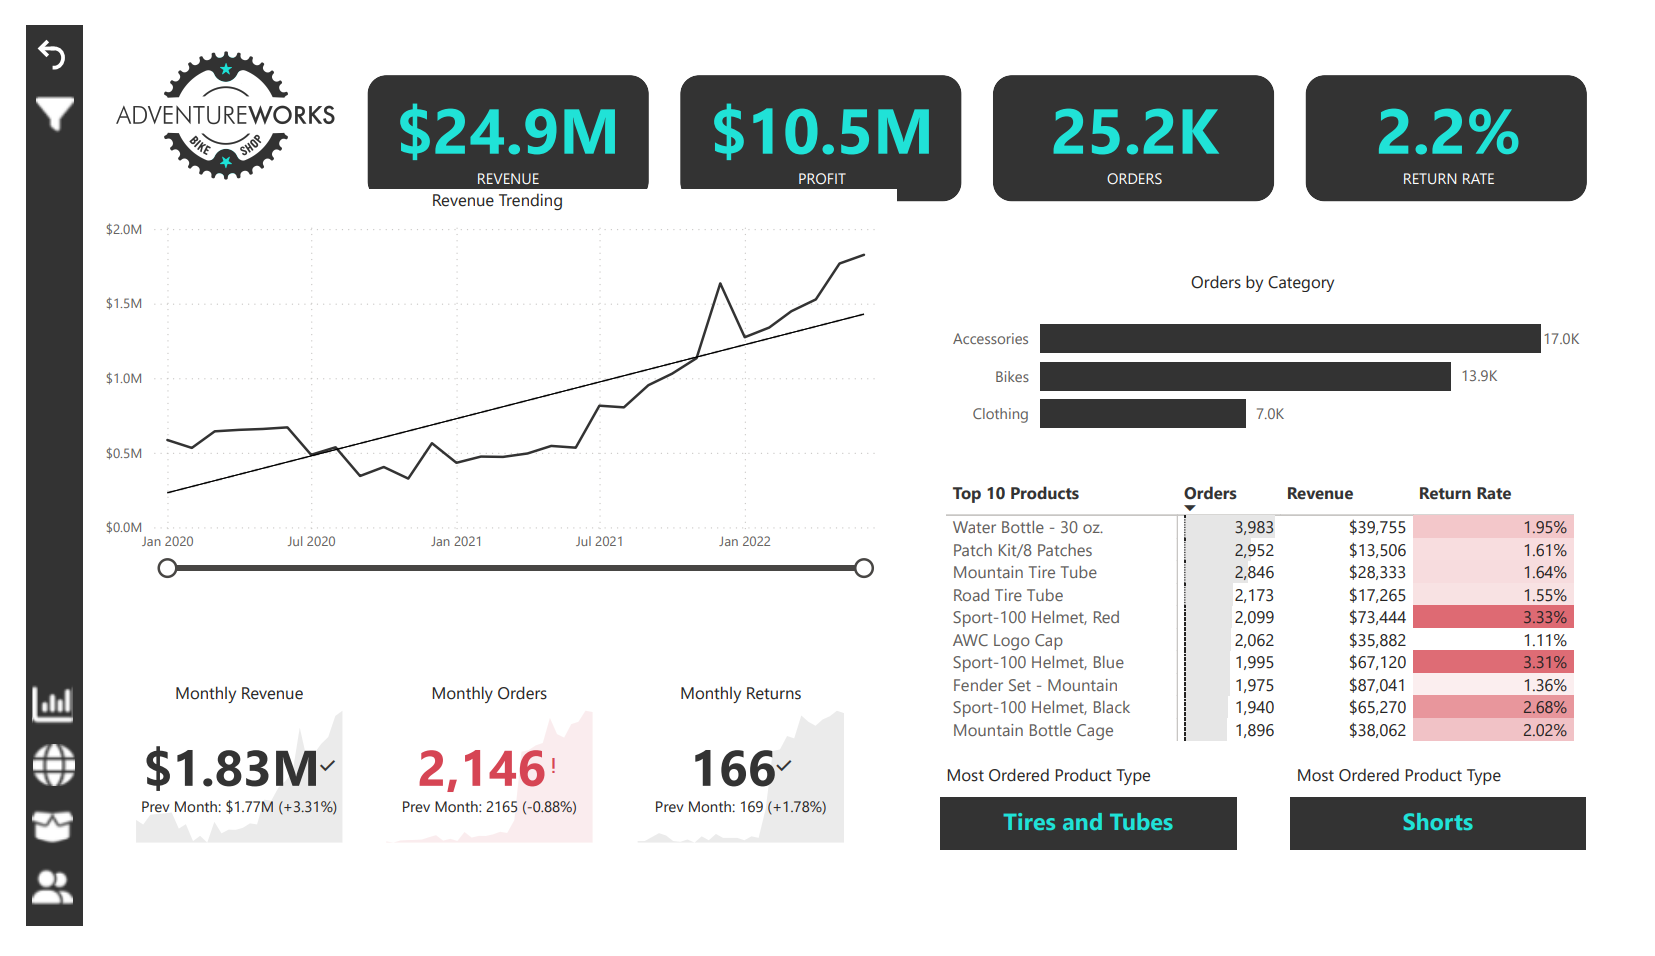

The dashboard page shown, as its layout file describes it:
{"tool":"powerbi","page":{"name":"Exec Dashboard","canvas":[1280,720],"ordinal":0},"visuals":[{"type":"image","title":"AW Logo","box":[45.4,13.8,229.3,117.5],"z":0},{"type":"card","fields":{"Values":["Measure Table.Total Revenue"]},"box":[270.6,13.8,229.3,151.5],"z":0,"group":"g2"},{"type":"group","id":"g1","title":"KPI Backgrounds","box":[272.9,39.7,974.5,100.6],"z":0,"group":"g3"},{"type":"shape","box":[272.9,39.9,224.8,99.7],"z":0,"group":"g1"},{"type":"actionButton","box":[0.9,523,45.7,40.3],"z":0,"group":"g4"},{"type":"shape","title":"Left Nav Background","box":[0,0,45.3,719.8],"z":1000},{"type":"group","id":"g2","title":"KPI Values","box":[270.6,13.8,981.1,151.5],"z":1000,"group":"g3"},{"type":"card","fields":{"Values":["Measure Table.Total Profit"]},"box":[521.2,13.8,229.3,151.5],"z":1000,"group":"g2"},{"type":"shape","box":[522.8,39.7,224.8,100.6],"z":1000,"group":"g1"},{"type":"actionButton","box":[1.8,571.4,45.7,40.3],"z":1000,"group":"g4"},{"type":"group","id":"g3","title":"KPIS","box":[270.6,13.8,981.1,151.5],"z":2000},{"type":"card","fields":{"Values":["Measure Table.Total Orders"]},"box":[771.8,13.8,229.3,151.5],"z":2000,"group":"g2"},{"type":"shape","box":[1022.6,39.7,224.8,100.6],"z":2000,"group":"g1"},{"type":"actionButton","box":[0.9,620.6,45.7,40.3],"z":2000,"group":"g4"},{"type":"card","fields":{"Values":["Measure Table.Return Rate"]},"box":[1022.4,13.8,229.3,151.5],"z":3000,"group":"g2"},{"type":"shape","box":[772.7,39.7,224.8,100.6],"z":3000,"group":"g1"},{"type":"lineChart","title":"Revenue Trending","fields":{"Y":["Measure Table.Total Revenue"],"Category":["Calendar Lookup.Year","Calendar Lookup.Start of Quarter","Calendar Lookup.Start of Month"]},"box":[57.5,131.2,638.4,313.5],"z":3000},{"type":"actionButton","box":[0.9,669,45.7,40.3],"z":3000,"group":"g4"},{"type":"kpi","title":"Monthly Revenue","fields":{"Indicator":["Measure Table.Total Revenue"],"TrendLine":["Calendar Lookup.Start of Month"],"Goal":["Measure Table.Previous Month Revenue"]},"box":[82.6,524.8,175.2,133.4],"z":4000},{"type":"kpi","title":"Monthly Returns","fields":{"TrendLine":["Calendar Lookup.Start of Month"],"Indicator":["Measure Table.Total Returns"],"Goal":["Measure Table.Previous Month Returns"]},"box":[483.6,524.8,175.2,133.4],"z":5000},{"type":"kpi","title":"Monthly Orders","fields":{"TrendLine":["Calendar Lookup.Start of Month"],"Indicator":["Measure Table.Total Orders"],"Goal":["Measure Table.Previous Month Orders"]},"box":[283.1,524.8,175.2,133.4],"z":6000},{"type":"clusteredBarChart","title":"Orders by Category","fields":{"Category":["Product Categories Lookup.CategoryName"],"Y":["Measure Table.Total Orders"]},"box":[730.6,196.3,516.9,144],"z":7000},{"type":"pivotTable","fields":{"Rows":["Product Lookup.ProductName"],"Values":["Measure Table.Total Orders","Measure Table.Total Revenue","Measure Table.Return Rate"]},"box":[730.6,360.1,516.9,225.3],"z":8000},{"type":"card","fields":{"Values":["Min(Product Subcategories Lookup.SubcategoryName)"]},"box":[730.6,616.8,237,41.8],"z":9000},{"type":"textbox","box":[99.9,99.9,12.8,31.4],"z":10000},{"type":"textbox","box":[730.6,585.4,177.7,31.4],"z":11000},{"type":"card","fields":{"Values":["Min(Product Subcategories Lookup.SubcategoryName)"]},"box":[1010.5,616.8,237,41.8],"z":12000},{"type":"textbox","box":[1010.5,585.4,177.7,31.4],"z":13000},{"type":"actionButton","box":[3.6,7.2,38.5,33.1],"z":14000},{"type":"group","id":"g4","title":"Navigation Buttons","box":[0.9,523,46.6,186.3],"z":15000},{"type":"actionButton","box":[3.6,51.9,42.1,37.6],"z":16000}]}

Visuals, with their boxes on the page's 1280x720 design canvas (x1, y1, x2, y2). These are canvas units, not pixel positions in the 1655x956 screenshot, which may show the page scaled, cropped or inside an application window:
"AW Logo" image: {"x1": 45, "y1": 14, "x2": 275, "y2": 131}
card - Measure Table.Total Revenue: {"x1": 271, "y1": 14, "x2": 500, "y2": 165}
"KPI Backgrounds" group: {"x1": 273, "y1": 40, "x2": 1247, "y2": 140}
shape: {"x1": 273, "y1": 40, "x2": 498, "y2": 140}
actionButton: {"x1": 1, "y1": 523, "x2": 47, "y2": 563}
"Left Nav Background" shape: {"x1": 0, "y1": 0, "x2": 45, "y2": 720}
"KPI Values" group: {"x1": 271, "y1": 14, "x2": 1252, "y2": 165}
card - Measure Table.Total Profit: {"x1": 521, "y1": 14, "x2": 750, "y2": 165}
shape: {"x1": 523, "y1": 40, "x2": 748, "y2": 140}
actionButton: {"x1": 2, "y1": 571, "x2": 48, "y2": 612}
"KPIS" group: {"x1": 271, "y1": 14, "x2": 1252, "y2": 165}
card - Measure Table.Total Orders: {"x1": 772, "y1": 14, "x2": 1001, "y2": 165}
shape: {"x1": 1023, "y1": 40, "x2": 1247, "y2": 140}
actionButton: {"x1": 1, "y1": 621, "x2": 47, "y2": 661}
card - Measure Table.Return Rate: {"x1": 1022, "y1": 14, "x2": 1252, "y2": 165}
shape: {"x1": 773, "y1": 40, "x2": 998, "y2": 140}
"Revenue Trending" lineChart: {"x1": 58, "y1": 131, "x2": 696, "y2": 445}
actionButton: {"x1": 1, "y1": 669, "x2": 47, "y2": 709}
"Monthly Revenue" kpi: {"x1": 83, "y1": 525, "x2": 258, "y2": 658}
"Monthly Returns" kpi: {"x1": 484, "y1": 525, "x2": 659, "y2": 658}
"Monthly Orders" kpi: {"x1": 283, "y1": 525, "x2": 458, "y2": 658}
"Orders by Category" clusteredBarChart: {"x1": 731, "y1": 196, "x2": 1248, "y2": 340}
pivotTable - Product Lookup.ProductName x Measure Table.Total Orders: {"x1": 731, "y1": 360, "x2": 1248, "y2": 585}
card - Min(Product Subcategories Lookup.SubcategoryName): {"x1": 731, "y1": 617, "x2": 968, "y2": 659}
textbox: {"x1": 100, "y1": 100, "x2": 113, "y2": 131}
textbox: {"x1": 731, "y1": 585, "x2": 908, "y2": 617}
card - Min(Product Subcategories Lookup.SubcategoryName): {"x1": 1010, "y1": 617, "x2": 1248, "y2": 659}
textbox: {"x1": 1010, "y1": 585, "x2": 1188, "y2": 617}
actionButton: {"x1": 4, "y1": 7, "x2": 42, "y2": 40}
"Navigation Buttons" group: {"x1": 1, "y1": 523, "x2": 48, "y2": 709}
actionButton: {"x1": 4, "y1": 52, "x2": 46, "y2": 90}
